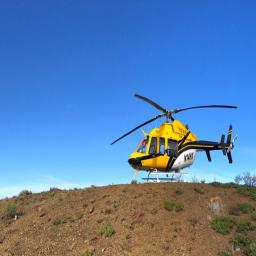helicopter: (111, 93, 240, 187)
